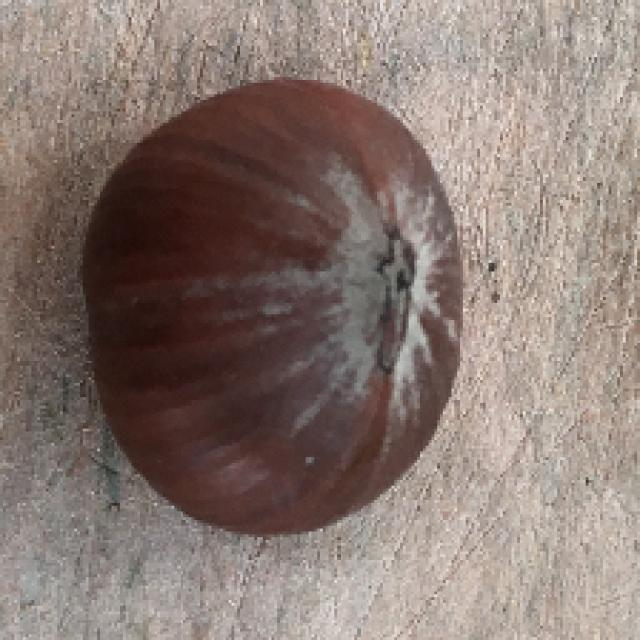qualityHazelnut: (88, 71, 470, 536)
